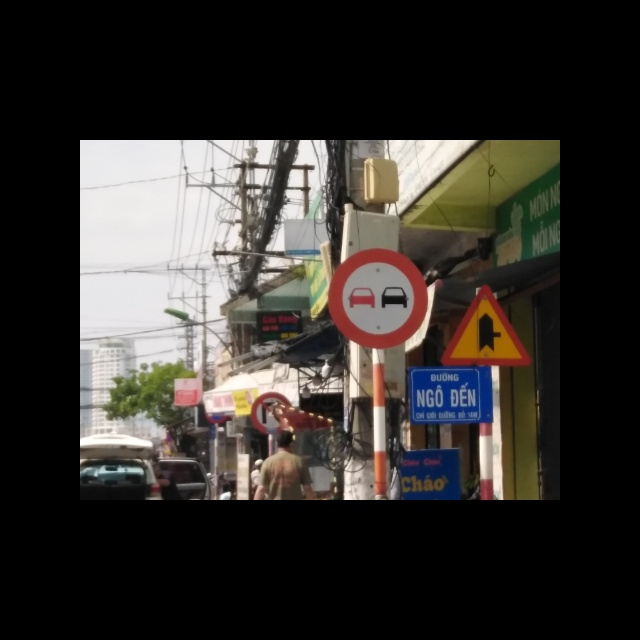Cấm vượt: (326, 249, 428, 350)
Giao nhau với đường không ưu tiên: (440, 280, 533, 367)
